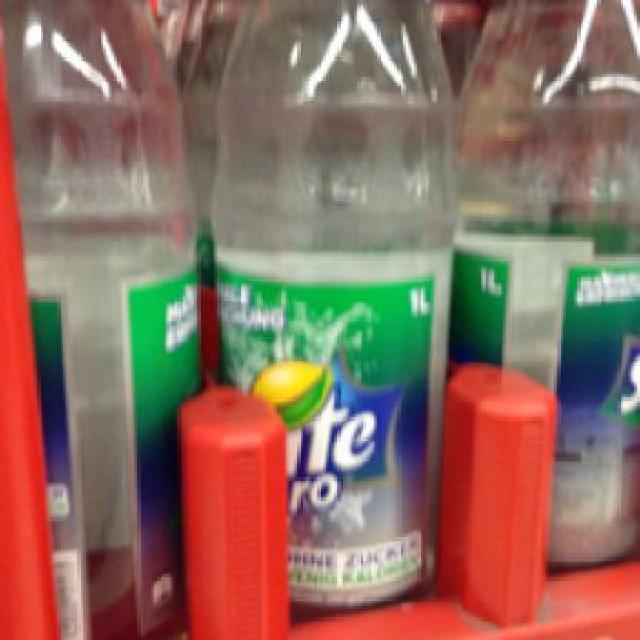Soda: (207, 0, 461, 612), (0, 0, 198, 632), (454, 0, 637, 569)
